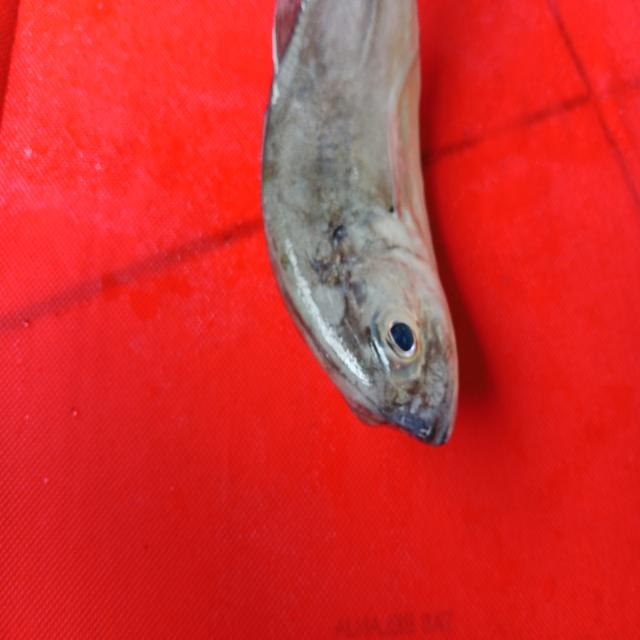ikan: (238, 7, 484, 452)
